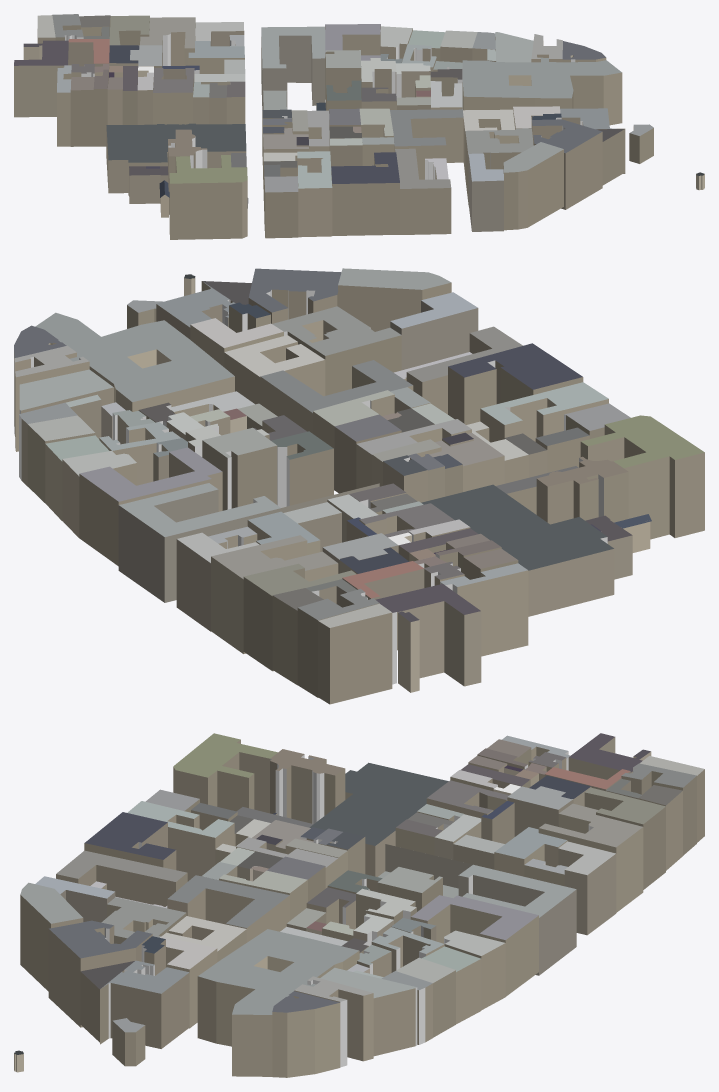
The picture shows the model from 3 angles, top to bottom: view 1: azimuth 30°, elevation 25°; view 2: azimuth 150°, elevation 25°; view 3: azimuth 270°, elevation 25°; orthographic projection. The views are drawn at different scales.
Parts seen in each view (by area): view 1: tuile; view 2: tuile; view 3: tuile.
Boxes of the visible parts, x1,y1,x2,y2 form: tuile: [14, 14, 704, 239]; tuile: [14, 268, 704, 704]; tuile: [14, 733, 704, 1077].
Bounding box in the file's own units: 214 × 27.93 × 227.
